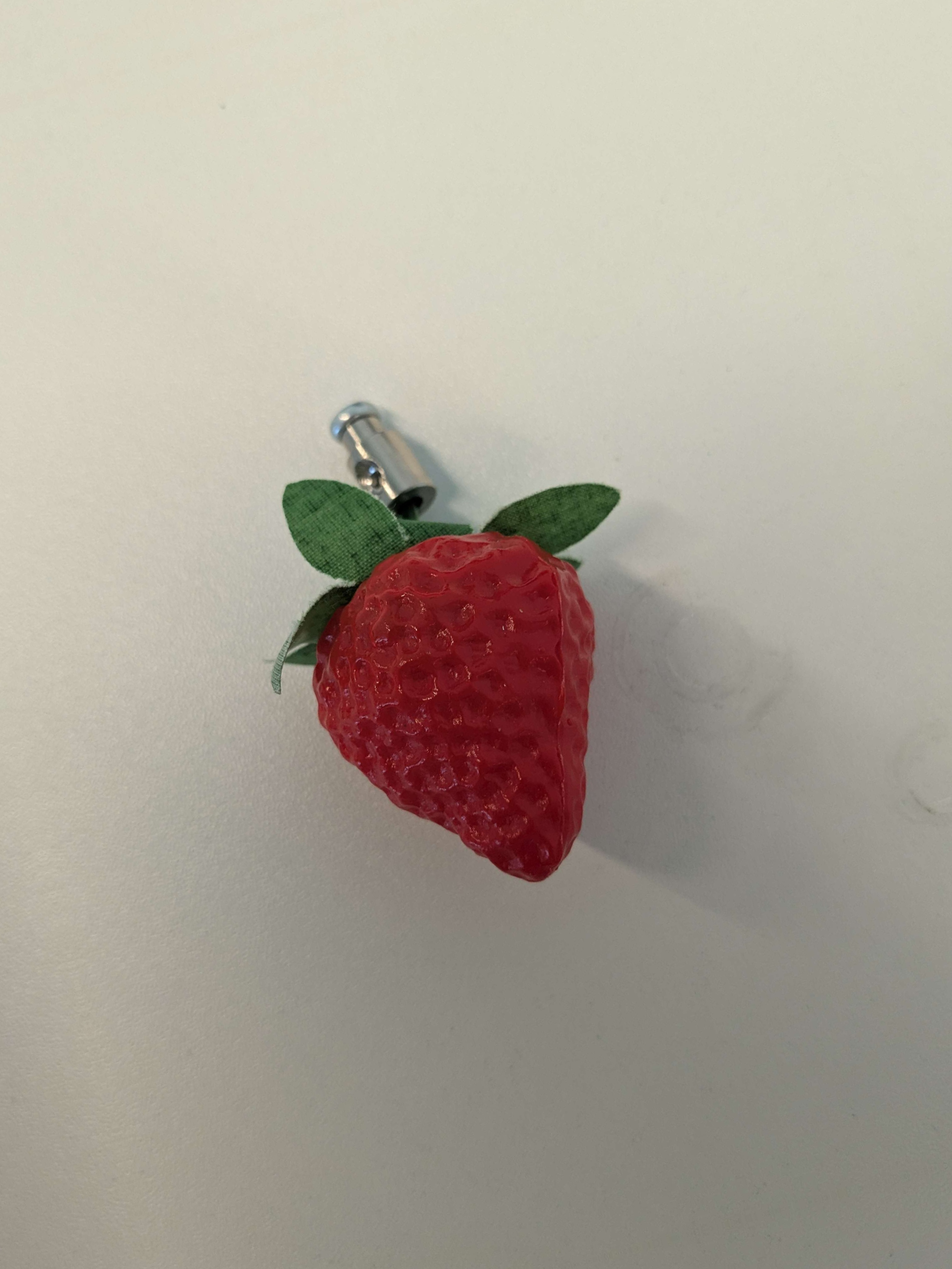Strawberry: (236, 469, 689, 964)
